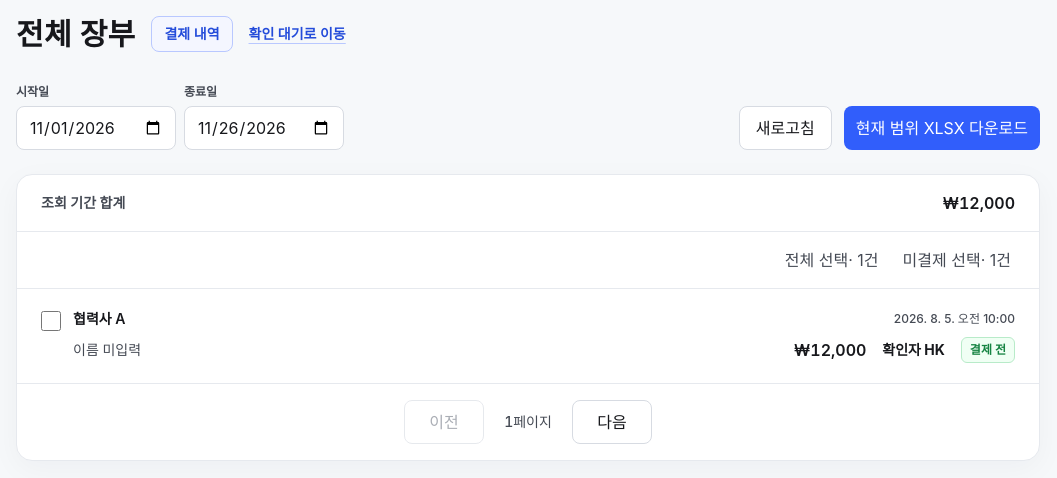
Test: MonthlyMealUsageList › renders confirmed rows without input-source labels, ordinary navigation, and no automatic polling
Expected: the heading "전체 장부" is shown, [16,16,136,52]
Expected: the text "확인자 HK" is shown, [882,340,945,360]
Click the button "다음" at [612, 422], box [572,400,652,444]
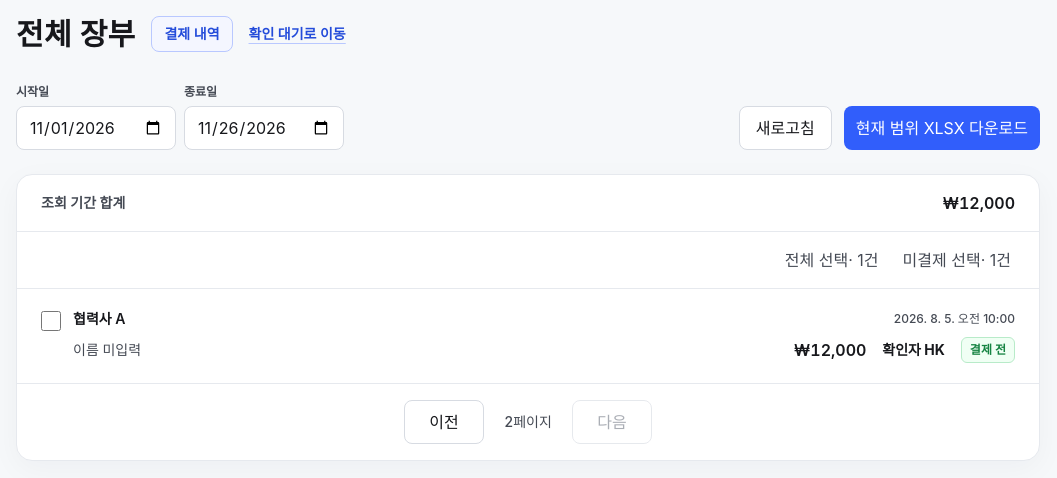
Expected: the text "2페이지" is shown, [504,413,552,430]
